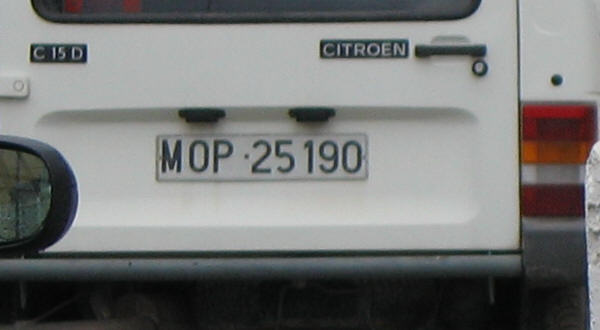license_plate: (155, 134, 372, 182)
